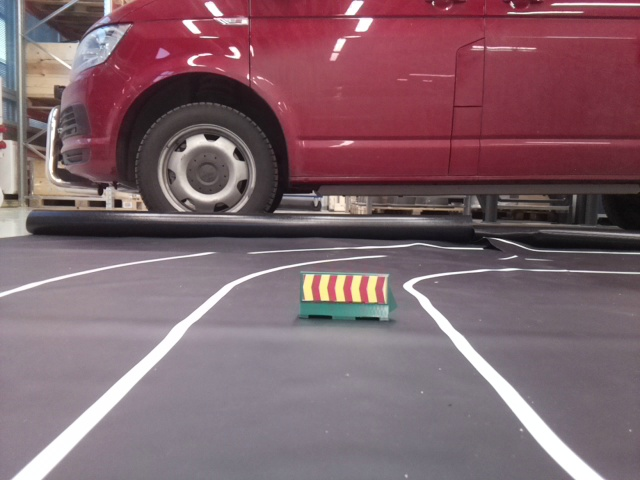ClosedRoadStand: (299, 272, 389, 323)
